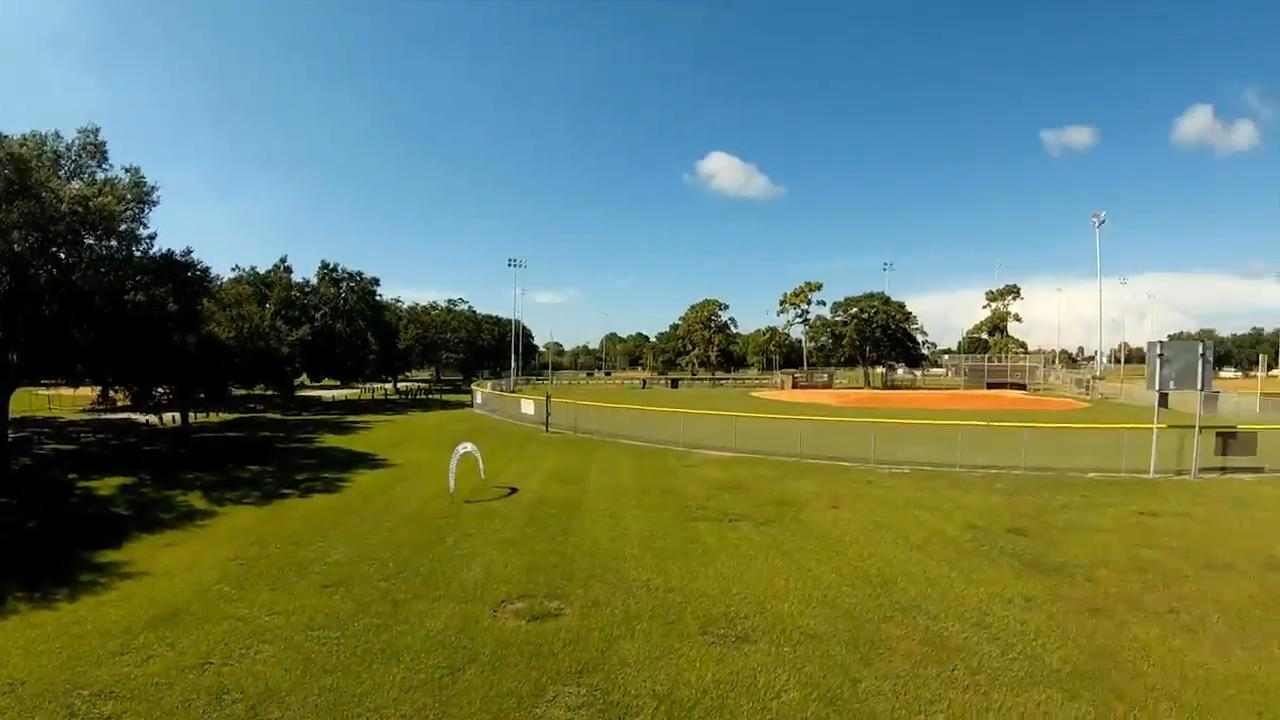gate: (446, 440, 486, 493)
